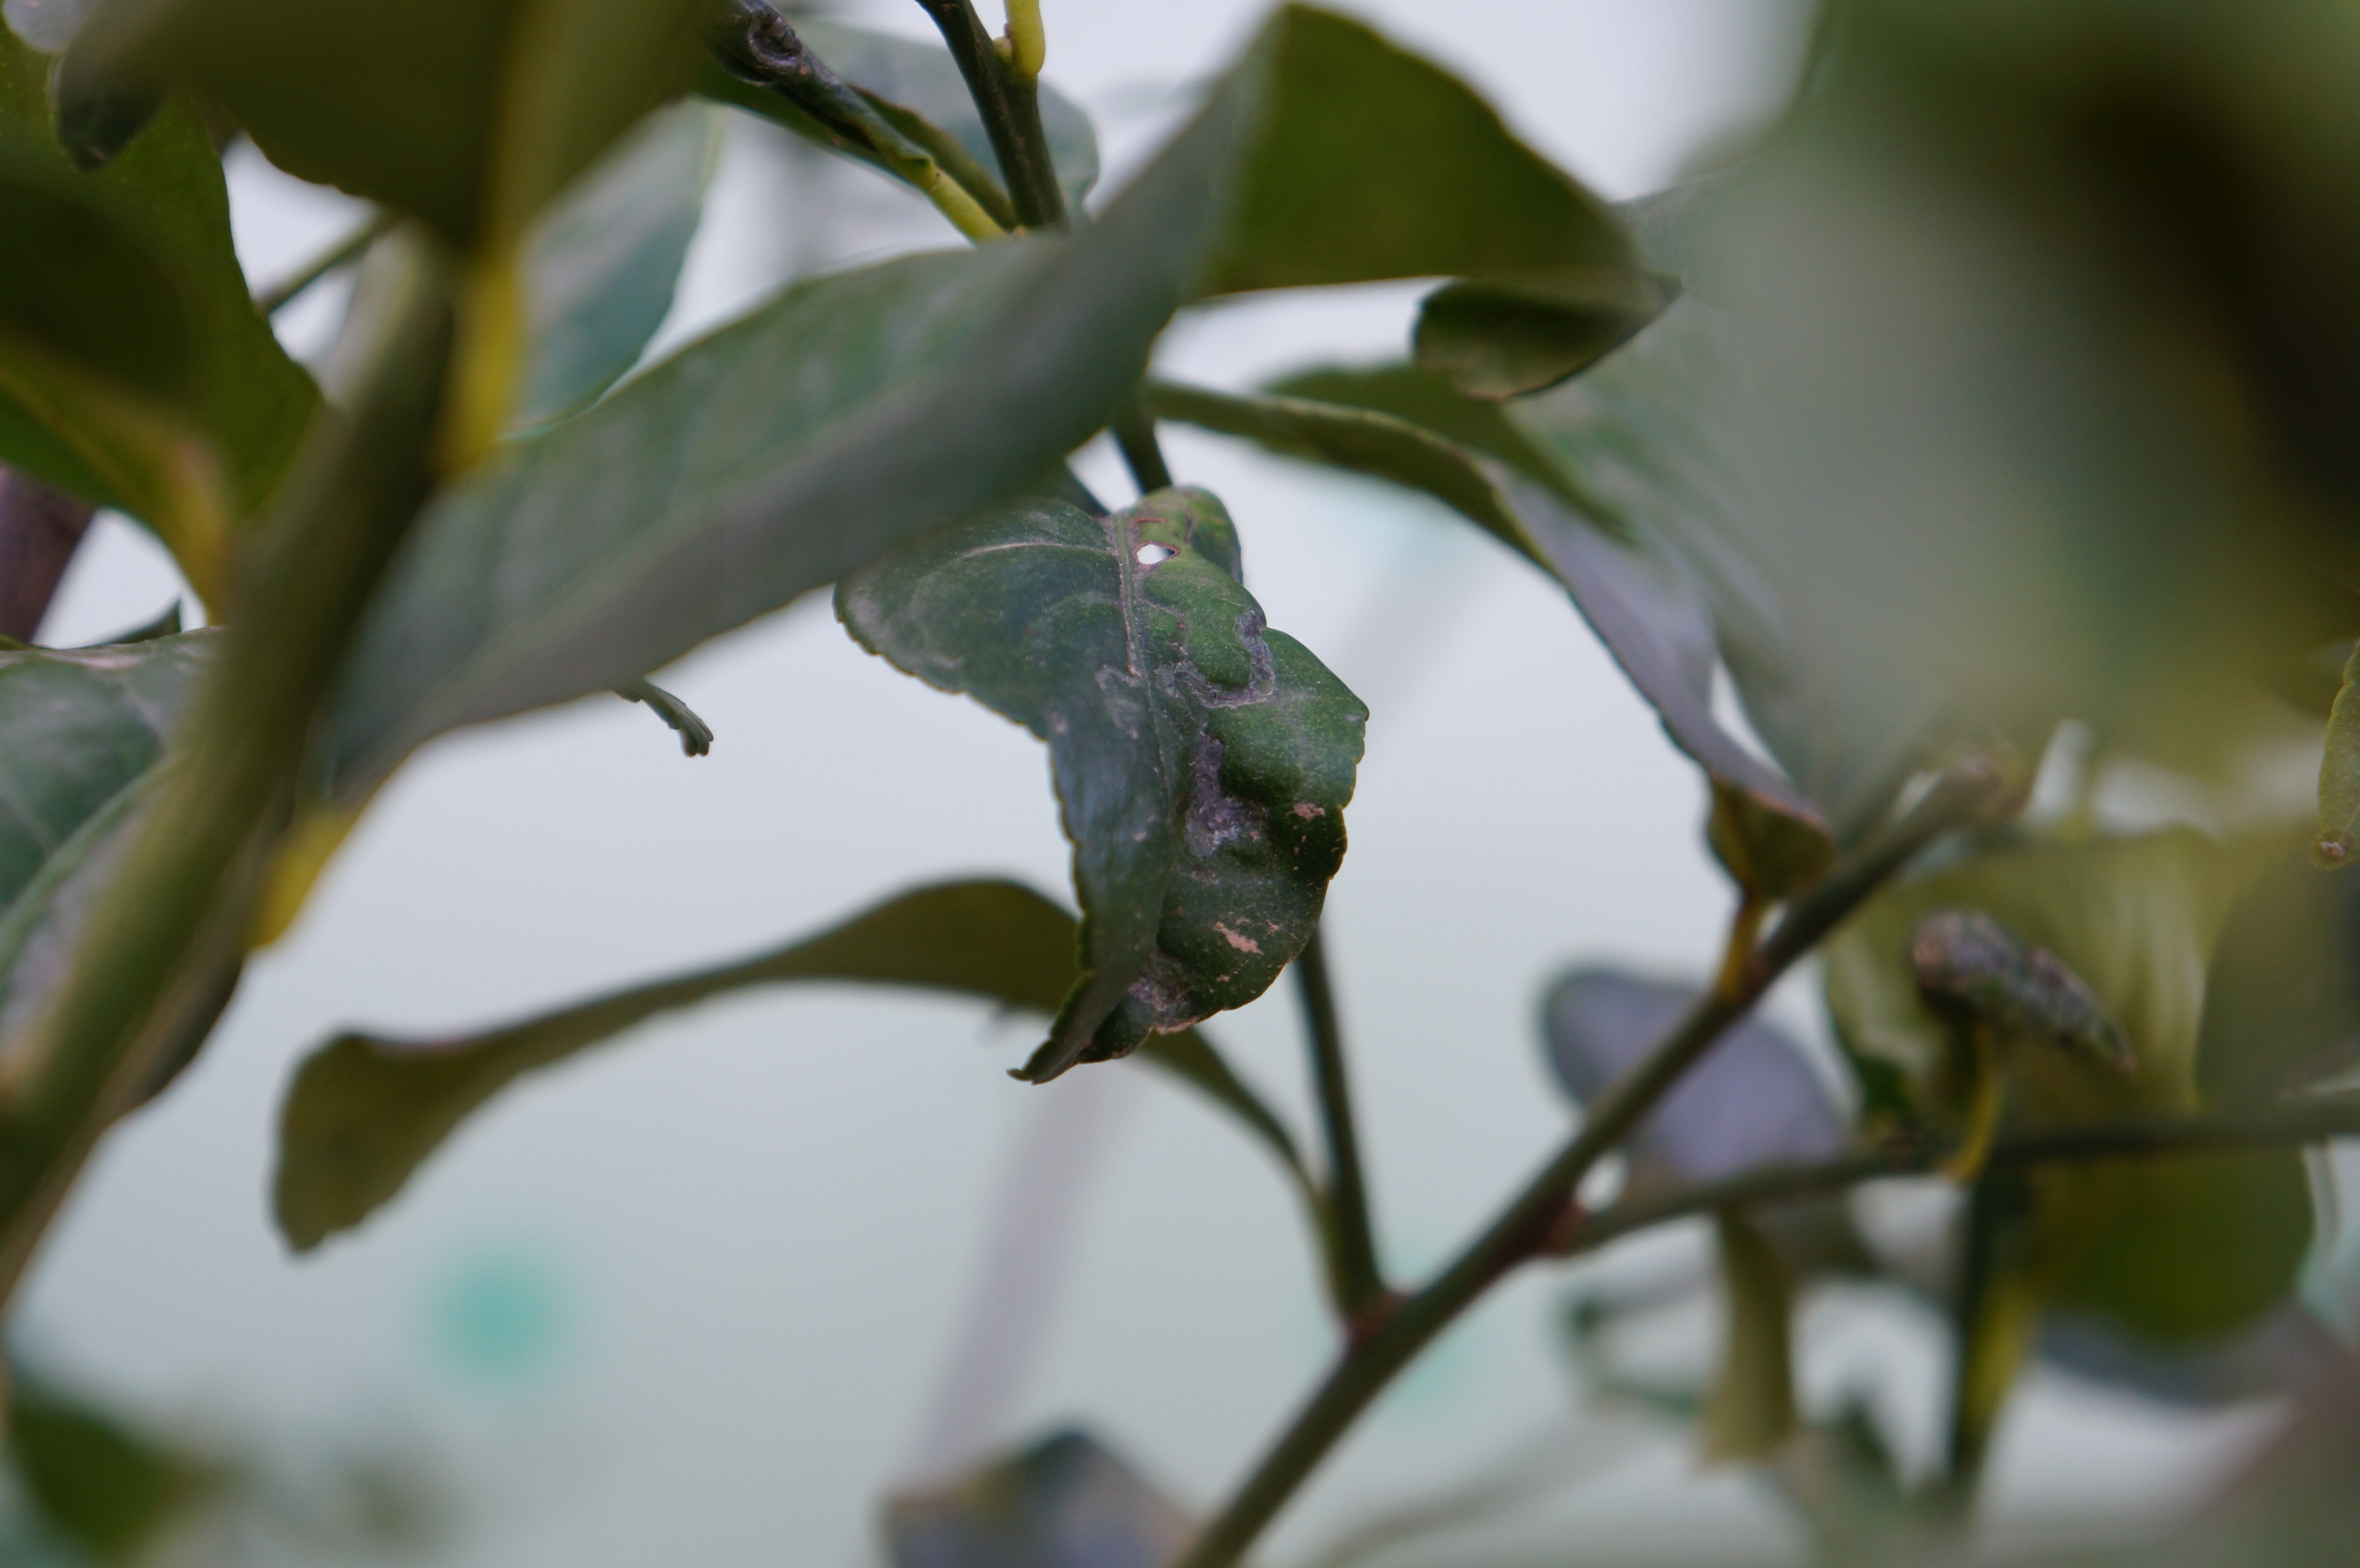damage: (1144, 602, 1331, 889)
